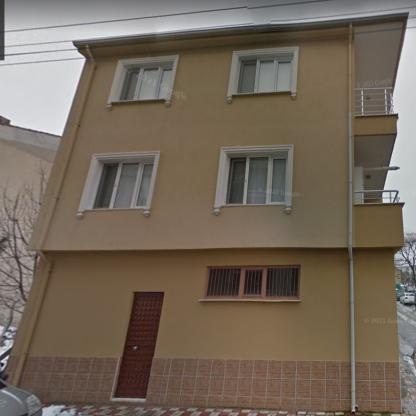door: (115, 293, 164, 398)
window: (221, 150, 290, 206), (86, 155, 155, 208), (204, 268, 298, 300), (234, 52, 294, 94), (114, 61, 174, 100)
